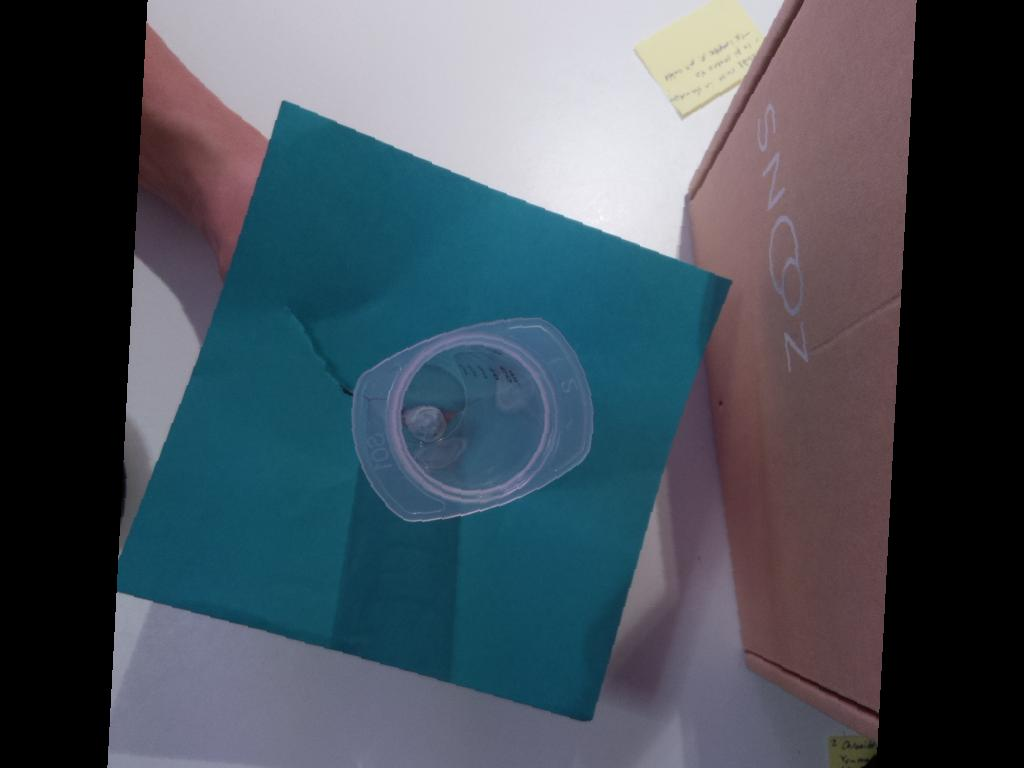clean: (350, 318, 596, 522)
